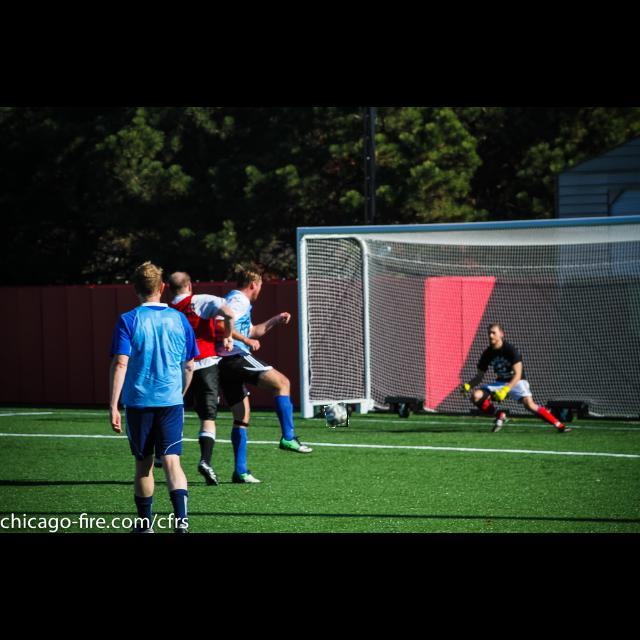Football: (326, 403, 348, 427)
